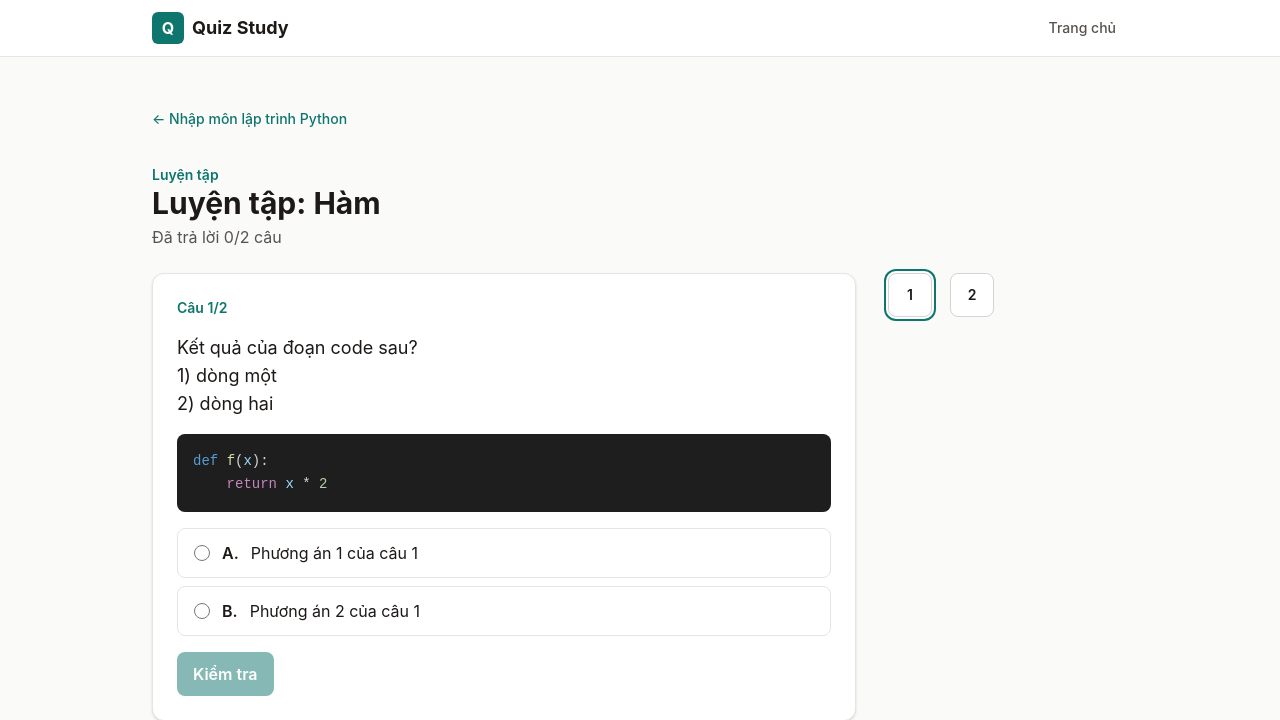
Test case: AttemptPage – luyện tập › checks the picked answer, shows the correct one, and locks the question
Expected: the button "Kiểm tra" is disabled, x1=177 y1=652 x2=274 y2=696
Click the radio button labelled "B. Phương án 2 của câu 1" at coordinates (202, 610), box x1=194 y1=602 x2=210 y2=618
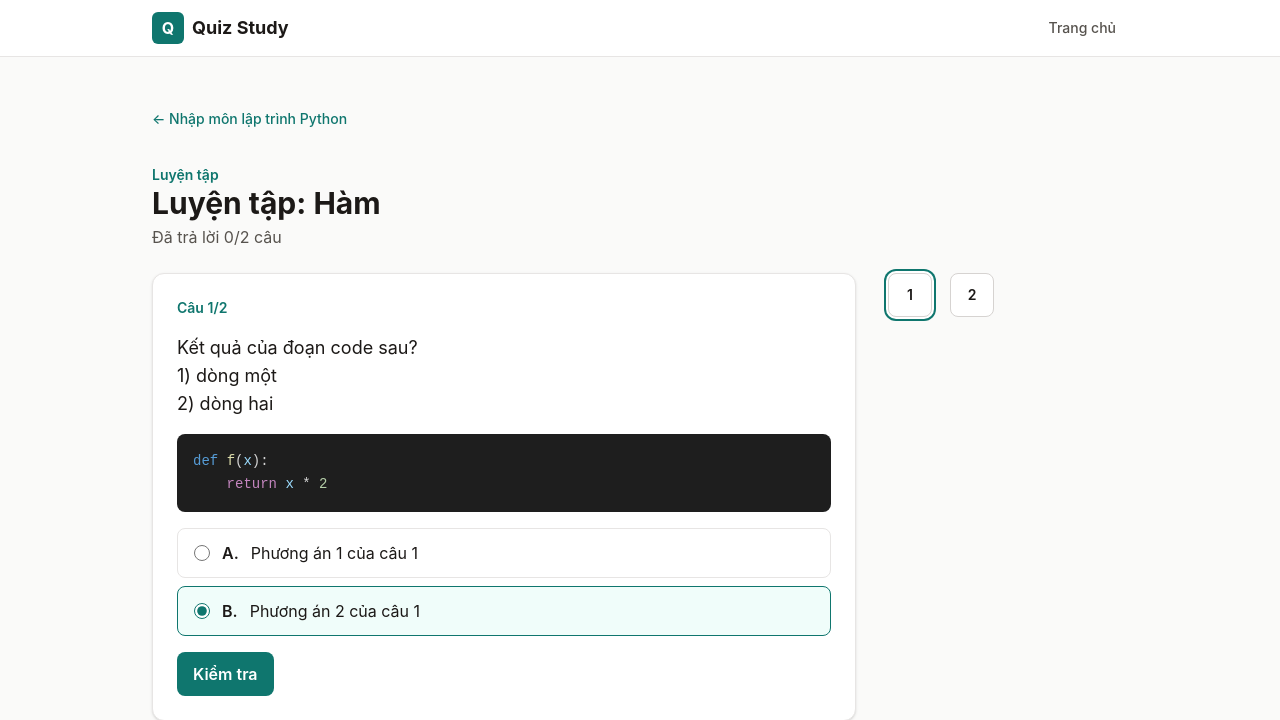
Click the button "Kiểm tra" at coordinates (225, 674), box x1=177 y1=652 x2=274 y2=696
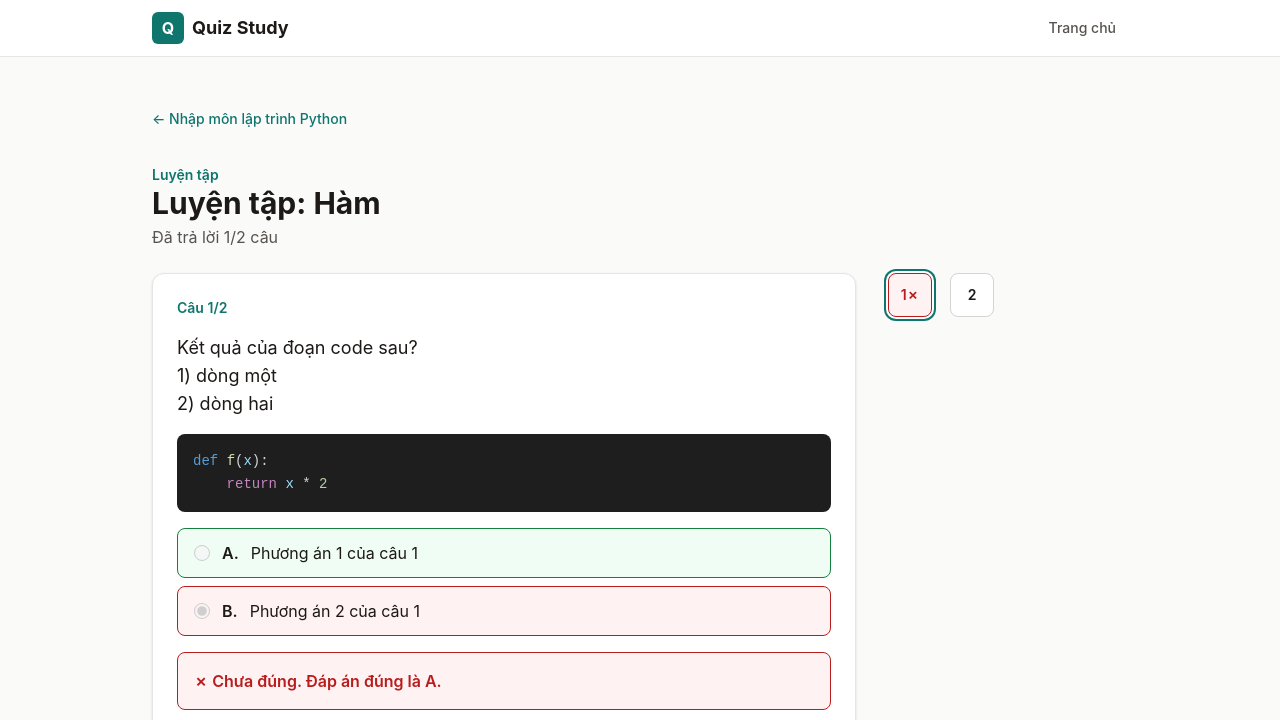
Expected: the message reads "✗ Chưa đúng. Đáp án đúng là A.", x1=177 y1=652 x2=831 y2=710
Expected: the radio button labelled "A. Phương án 1 của câu 1" is disabled, x1=194 y1=544 x2=210 y2=560
Expected: the button "Kiểm tra" is gone
